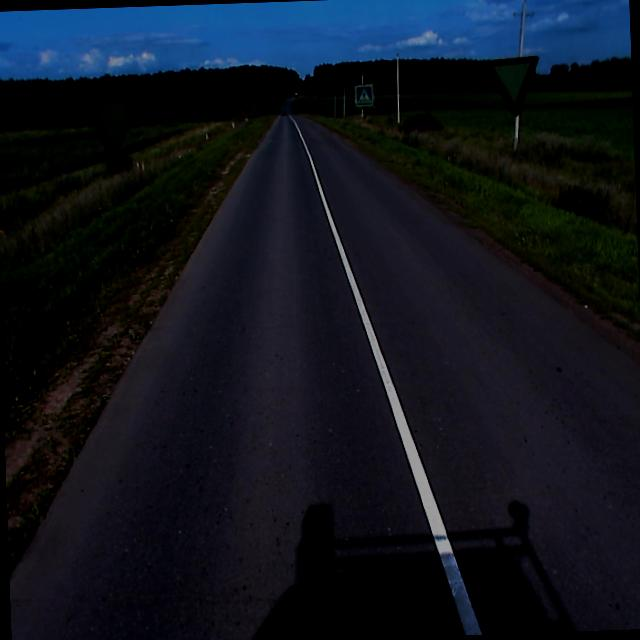road: (9, 111, 640, 640)
